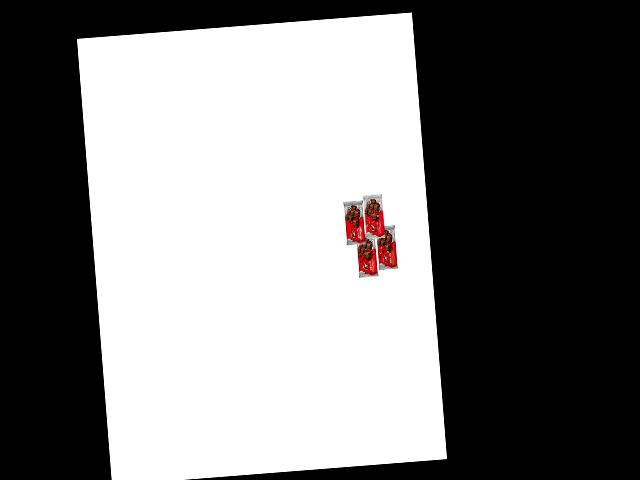chocolate: (371, 222, 400, 274)
